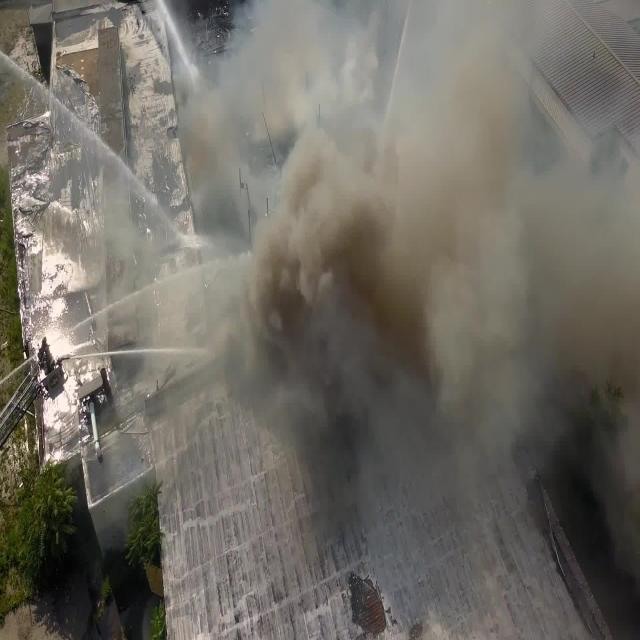Smoke: (130, 4, 637, 529)
